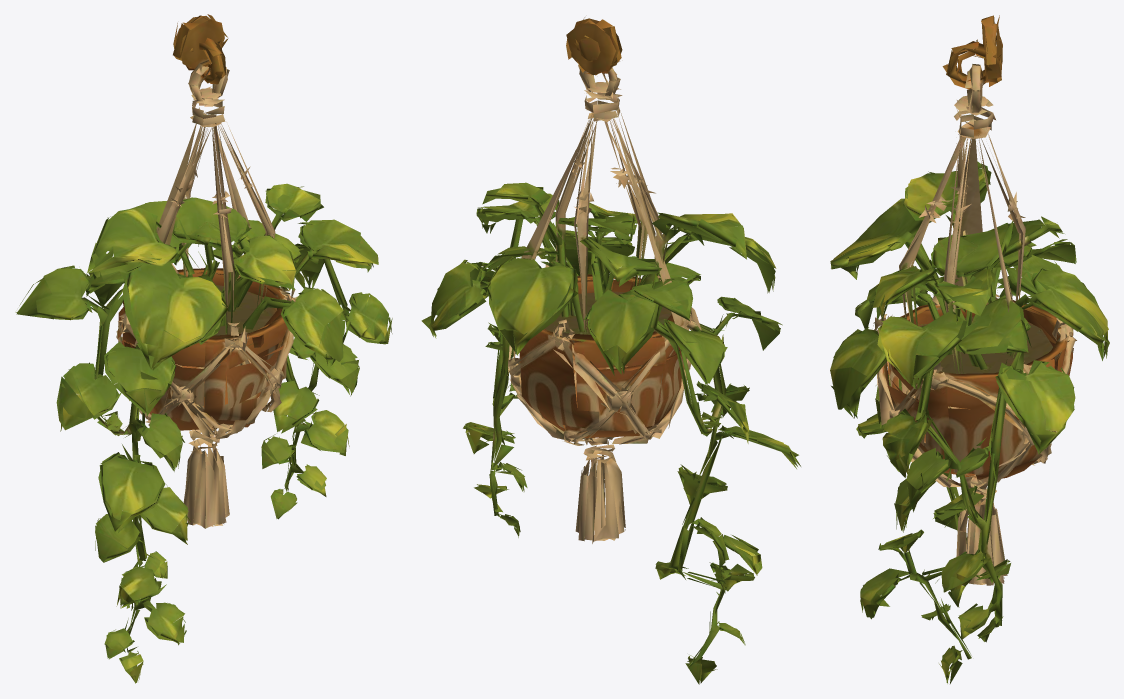
File: hanging_plant.glb
3 views of the same model, side by side, from view 1: azimuth 30°, elevation 25°; view 2: azimuth 150°, elevation 25°; view 3: azimuth 270°, elevation 25° (orthographic). The views are drawn at different scales.
Parts seen in each view (by area): view 1: hanging_plant; view 2: hanging_plant; view 3: hanging_plant.
Part boxes in pixels (x1=…): hanging_plant: x1=15, y1=14, x2=392, y2=683; hanging_plant: x1=421, y1=17, x2=800, y2=684; hanging_plant: x1=830, y1=15, x2=1109, y2=683.
Bounding box in the file's own units: 0.5009 × 1 × 0.3583.
1 material, 1 textured.
